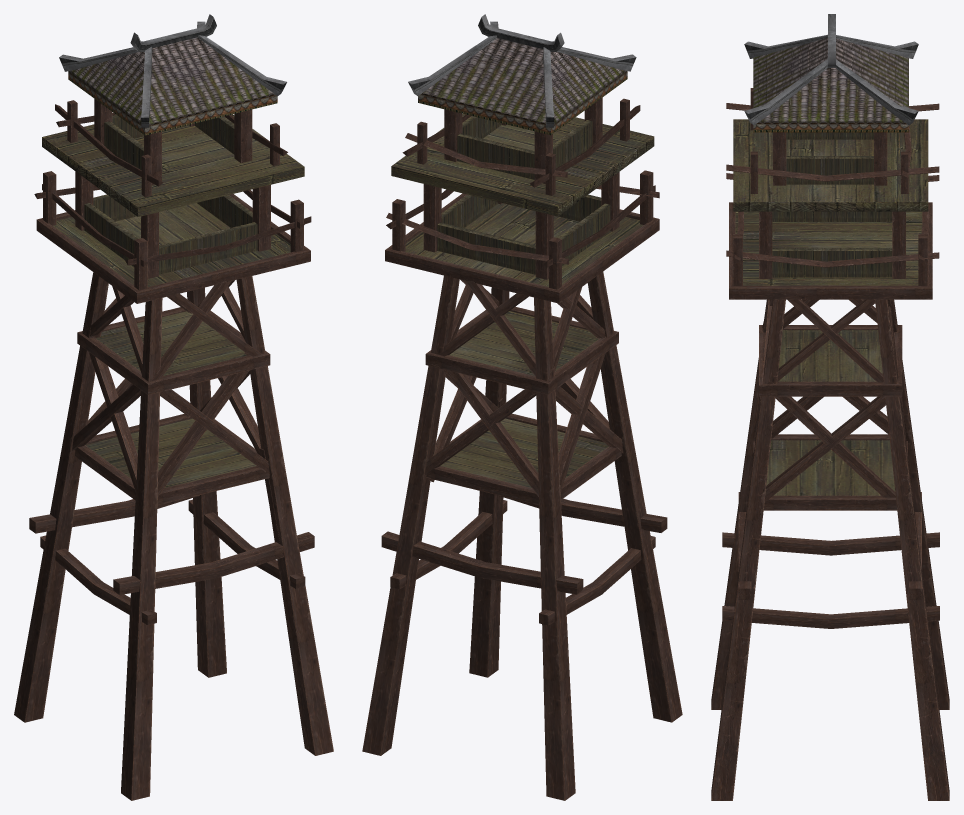
Rendered from talou_shuizhai_41.FBX.
3 renders of one model, left to right at view 1: azimuth 30°, elevation 25°; view 2: azimuth 150°, elevation 25°; view 3: azimuth 270°, elevation 25°, orthographic.
Parts seen in each view (by area): view 1: talou_shuizhai_41; view 2: talou_shuizhai_41; view 3: talou_shuizhai_41.
Boxes of the visible parts, bbox=[...] form: talou_shuizhai_41: bbox=[14, 14, 333, 800]; talou_shuizhai_41: bbox=[362, 14, 682, 800]; talou_shuizhai_41: bbox=[711, 14, 949, 800].
Size of what is drawn, in the model's own units: 886 by 2961 by 891.
